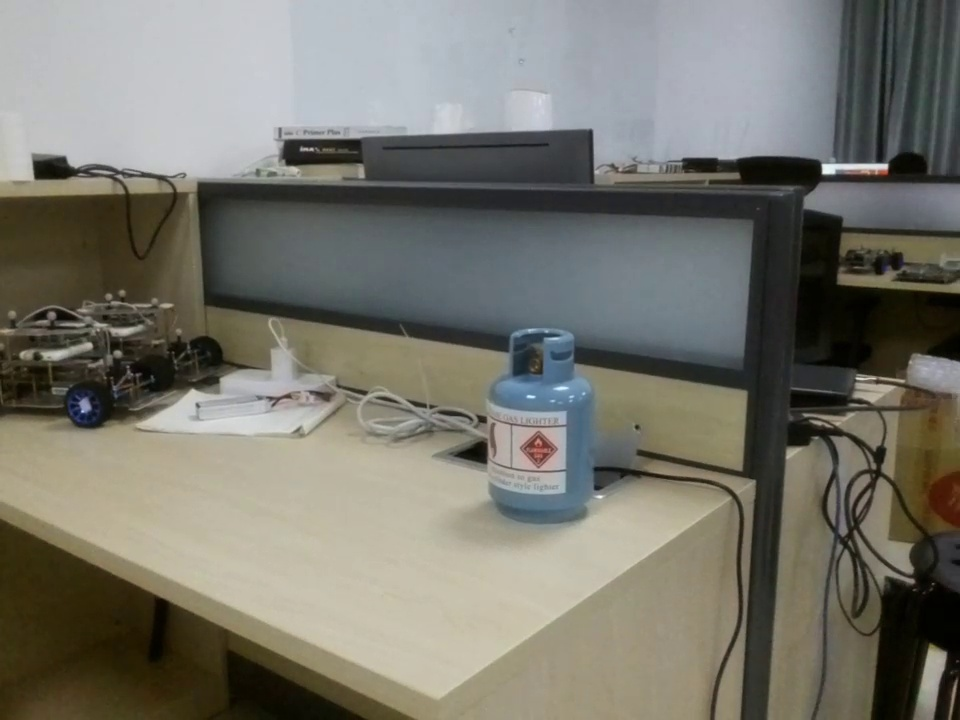gas tank: (483, 325, 615, 524)
